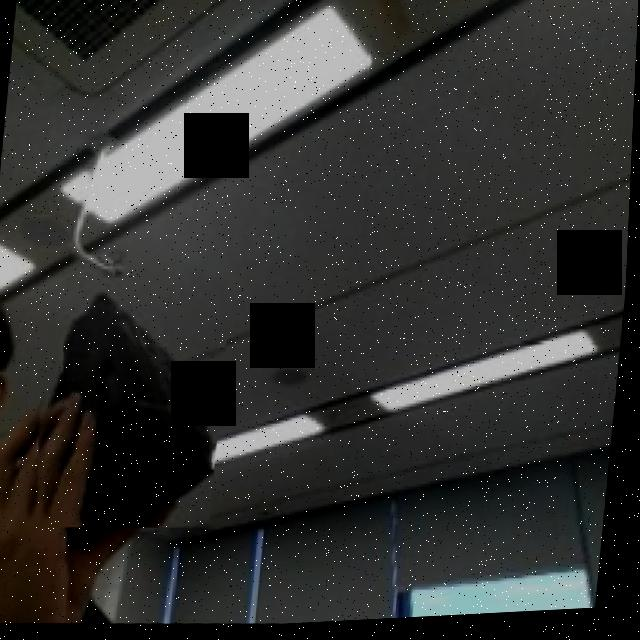shoe: (24, 284, 234, 538)
